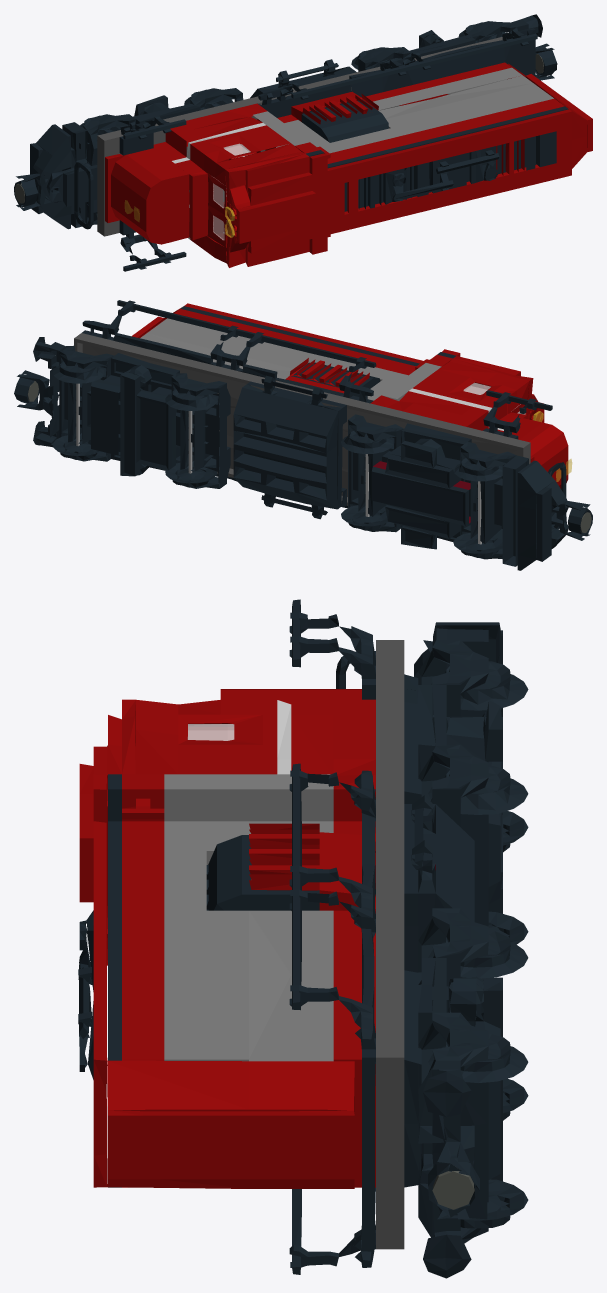
Rendered from diesel-electric-american-locomotive-3.glb.
The picture shows the model from 3 angles, top to bottom: view 1: azimuth 30°, elevation 25°; view 2: azimuth 150°, elevation 25°; view 3: azimuth 270°, elevation 25°; orthographic projection. The views are drawn at different scales.
Bounding box in the file's own units: 280 × 69.41 × 102.
